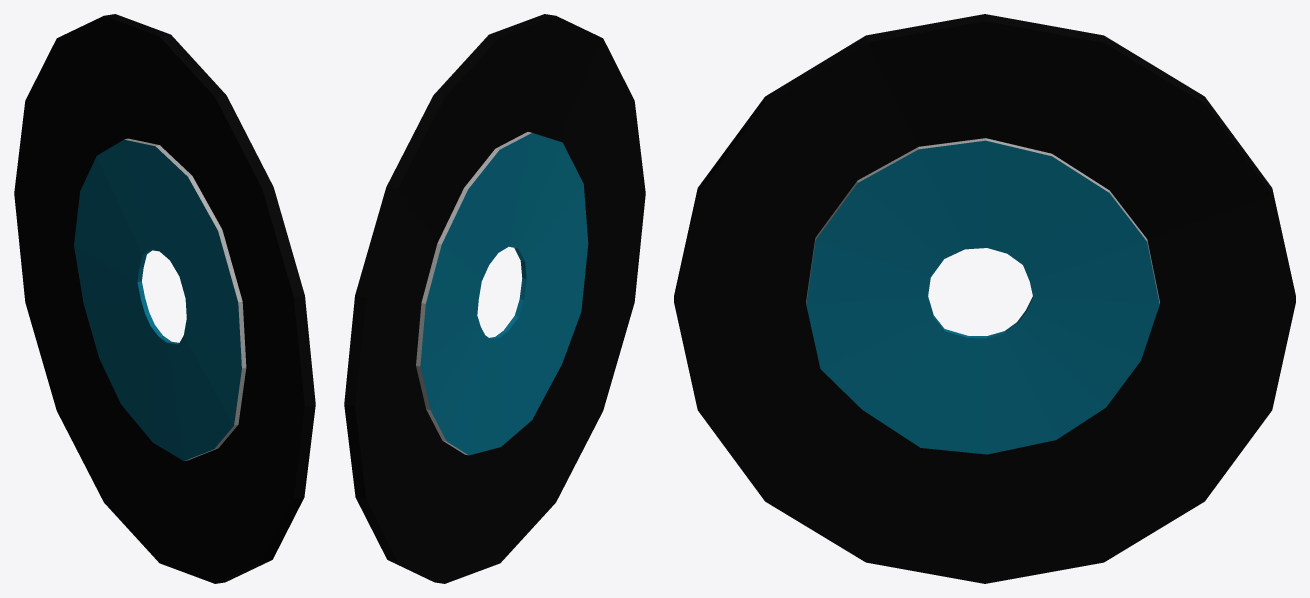
Rendered from record 3 fbx.fbx.
3 renders of one model, left to right at view 1: azimuth 30°, elevation 25°; view 2: azimuth 150°, elevation 25°; view 3: azimuth 270°, elevation 25°, orthographic. The views are drawn at different scales.
Parts seen in each view (by area): view 1: polySurface3; view 2: polySurface3; view 3: polySurface3.
Part boxes in pixels (box(x1,y1,x2,y2)): polySurface3: box(14, 14, 315, 583); polySurface3: box(344, 14, 645, 583); polySurface3: box(674, 14, 1295, 583).
Size of the model in its own units: 0.0288 by 0.9535 by 0.9518.
